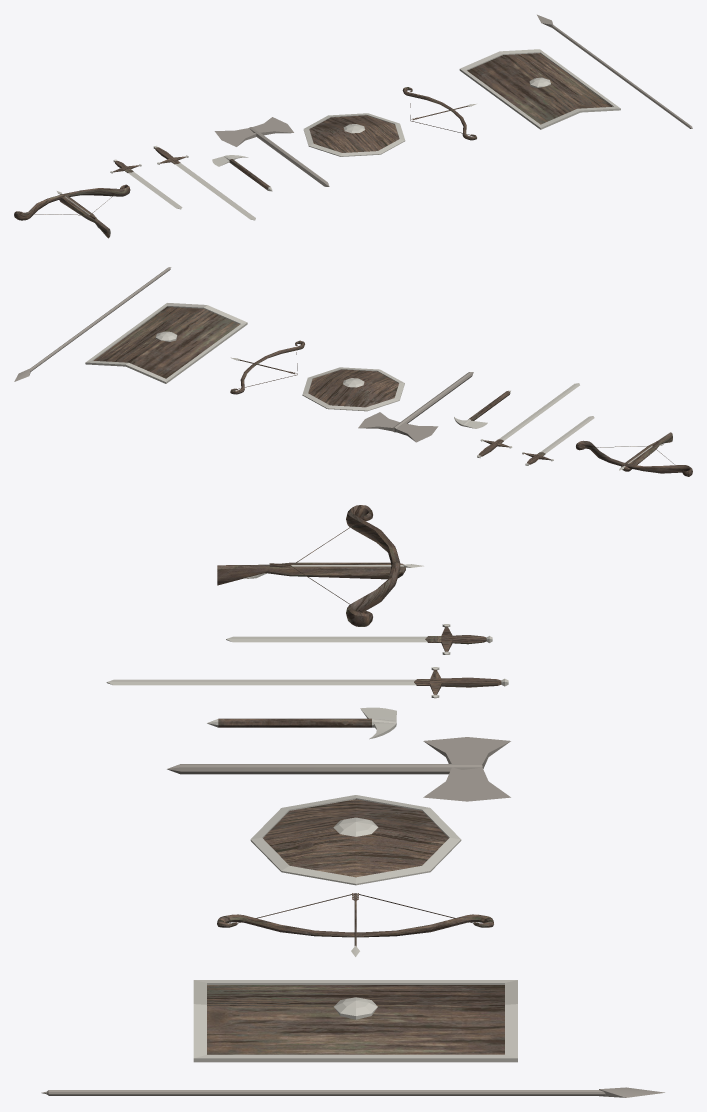
File: weapons.fbx
3 renders of one model, top to bottom at view 1: azimuth 30°, elevation 25°; view 2: azimuth 150°, elevation 25°; view 3: azimuth 270°, elevation 25°, orthographic. The views are drawn at different scales.
Visible parts, largest first — view 1: TowerShield, RoundShield, 2HAxe, Crossbow, Spear, Longsword, Bow, Sword, 1HAxe; view 2: TowerShield, RoundShield, 2HAxe, Crossbow, Spear, Longsword, Bow, Sword, 1HAxe; view 3: TowerShield, RoundShield, 2HAxe, Crossbow, Spear, Longsword, Bow, 1HAxe, Sword.
Boxes of the visible parts, <box> form: TowerShield: <box>459,49,620,129</box>; RoundShield: <box>303,113,405,156</box>; 2HAxe: <box>214,117,329,186</box>; Crossbow: <box>14,184,130,238</box>; Spear: <box>537,14,692,128</box>; Longsword: <box>153,146,255,220</box>; Bow: <box>402,87,476,140</box>; Sword: <box>110,159,182,209</box>; 1HAxe: <box>212,155,272,191</box>; TowerShield: <box>85,303,247,383</box>; RoundShield: <box>302,367,404,411</box>; 2HAxe: <box>358,372,473,442</box>; Crossbow: <box>576,432,692,476</box>; Spear: <box>14,267,171,381</box>; Longsword: <box>477,383,579,458</box>; Bow: <box>230,340,304,394</box>; Sword: <box>522,416,594,465</box>; 1HAxe: <box>454,390,510,428</box>; TowerShield: <box>193,980,517,1062</box>; RoundShield: <box>250,795,461,885</box>; 2HAxe: <box>167,737,510,801</box>; Crossbow: <box>217,505,405,626</box>; Spear: <box>41,1087,664,1097</box>; Longsword: <box>106,667,508,698</box>; Bow: <box>217,893,493,937</box>; 1HAxe: <box>207,707,396,739</box>; Sword: <box>226,624,492,654</box>.
Bounding box in the file's own units: 1350 × 43.04 × 607.
Materials: 1 (1 with a texture image).
